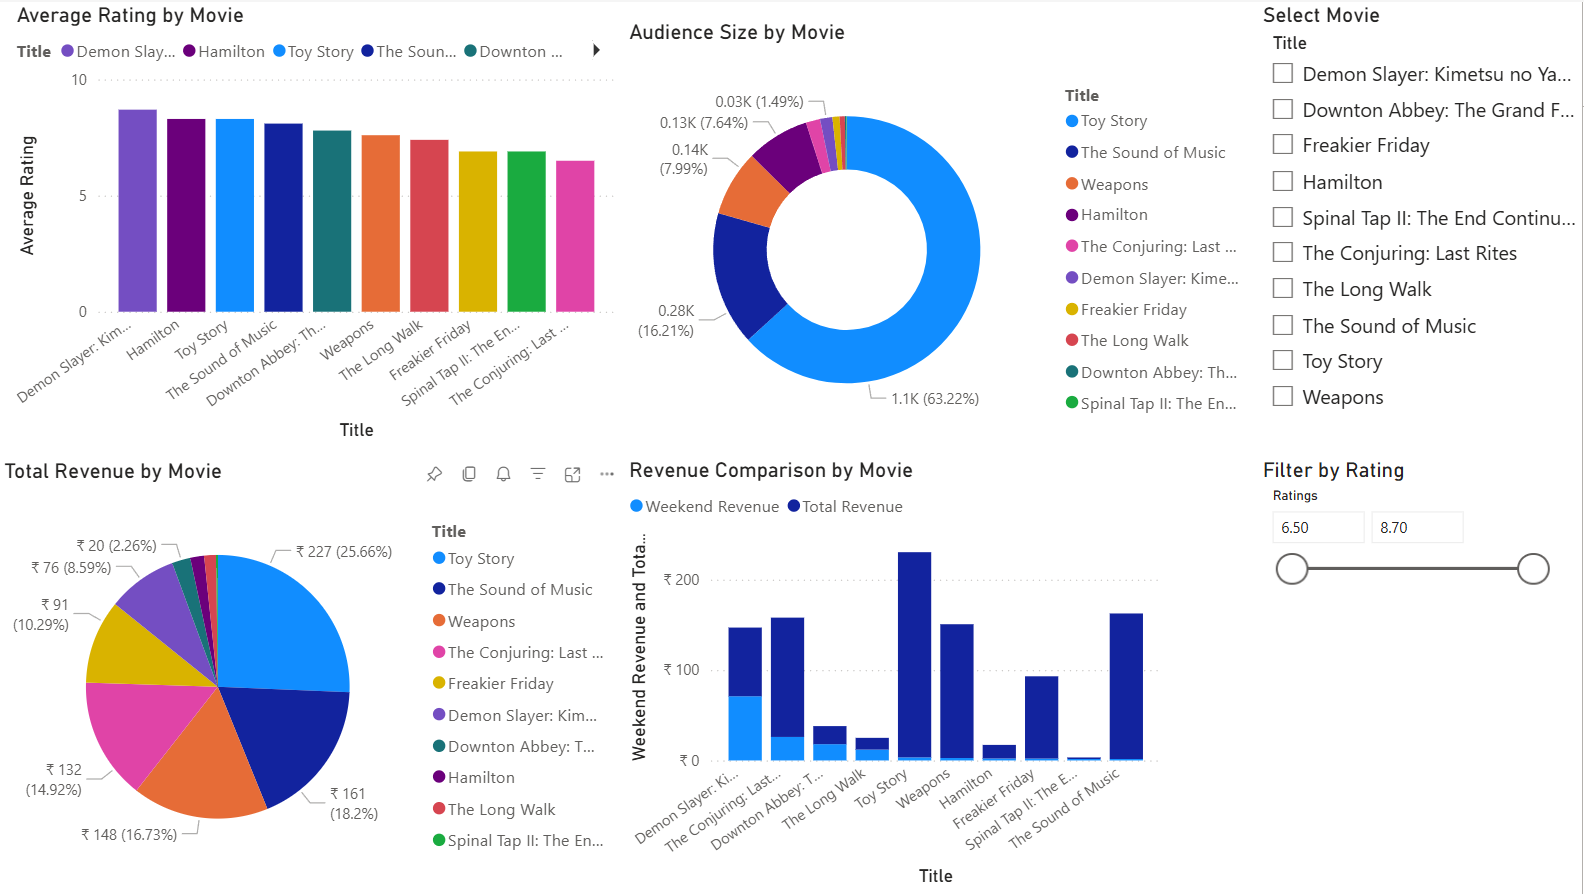

This screenshot's page, from the dashboard's own definition file:
{"tool":"powerbi","page":{"name":"Page 1","canvas":[1280,720],"ordinal":0},"visuals":[{"type":"columnChart","title":"Average Rating by Movie","fields":{"Category":["Table 1.Title"],"Y":["Avg(Table 1.Ratings)"],"Series":["Table 1.Title"]},"box":[9.9,0,493.3,359],"z":0},{"type":"pieChart","title":"Total Revenue by Movie","fields":{"Category":["Table 1.Title"],"Y":["Sum(Table 1.Total Gross (M))"]},"box":[0,368.9,504.6,350.5],"z":1000},{"type":"donutChart","title":"Audience Size by Movie","fields":{"Category":["Table 1.Title"],"Y":["Sum(Table 1.Count of Raters(k))"]},"box":[504.6,14.1,513.1,353.4],"z":2000},{"type":"lineStackedColumnComboChart","title":"Revenue Comparison by Movie","fields":{"Y":["Sum(Table 1.Weekend Gross(M))","Sum(Table 1.Total Gross (M))"],"Category":["Table 1.Title"]},"box":[504.6,367.5,439.6,351.9],"z":3000},{"type":"slicer","title":"Filter by Rating","fields":{"Values":["Table 1.Ratings"]},"box":[1017.7,367.5,244.5,141.3],"z":3001},{"type":"slicer","title":"Select Movie","fields":{"Values":["Table 1.Title"]},"box":[1017.7,0,262.9,346.3],"z":3002}]}

Visuals, with their boxes in screenshot pixels (x1, y1, x2, y2), scaled from the page's 1280x720 canvas onto the 1584x894 screenshot:
"Average Rating by Movie" columnChart: x1=12 y1=0 x2=623 y2=446
"Total Revenue by Movie" pieChart: x1=0 y1=458 x2=624 y2=893
"Audience Size by Movie" donutChart: x1=624 y1=18 x2=1259 y2=456
"Revenue Comparison by Movie" lineStackedColumnComboChart: x1=624 y1=456 x2=1168 y2=893
"Filter by Rating" slicer: x1=1259 y1=456 x2=1562 y2=632
"Select Movie" slicer: x1=1259 y1=0 x2=1583 y2=430
